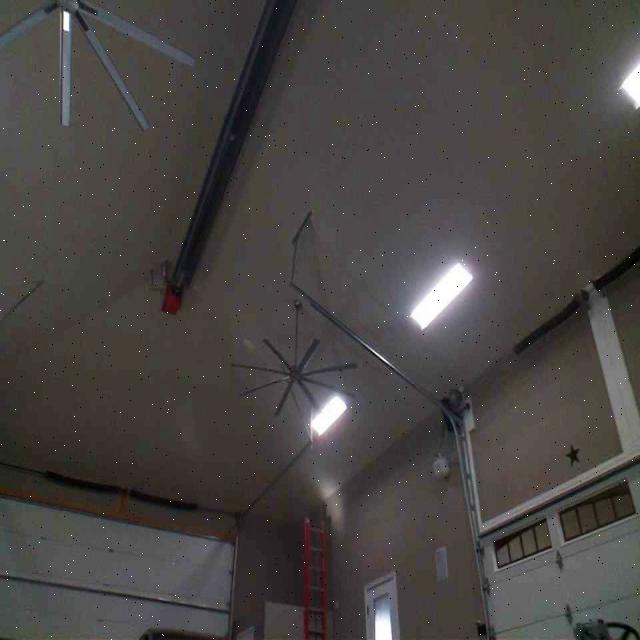star_black: (566, 445, 578, 467)
